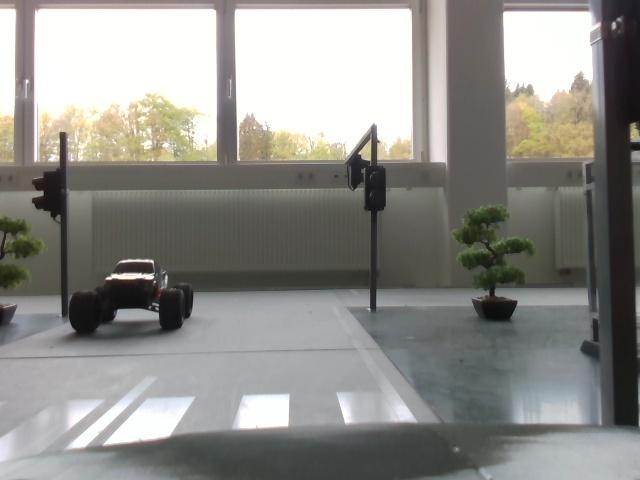car: (76, 250, 196, 340)
potted plant: (462, 200, 532, 325), (4, 214, 37, 332)
traffic light: (354, 150, 392, 216), (33, 164, 71, 217)
